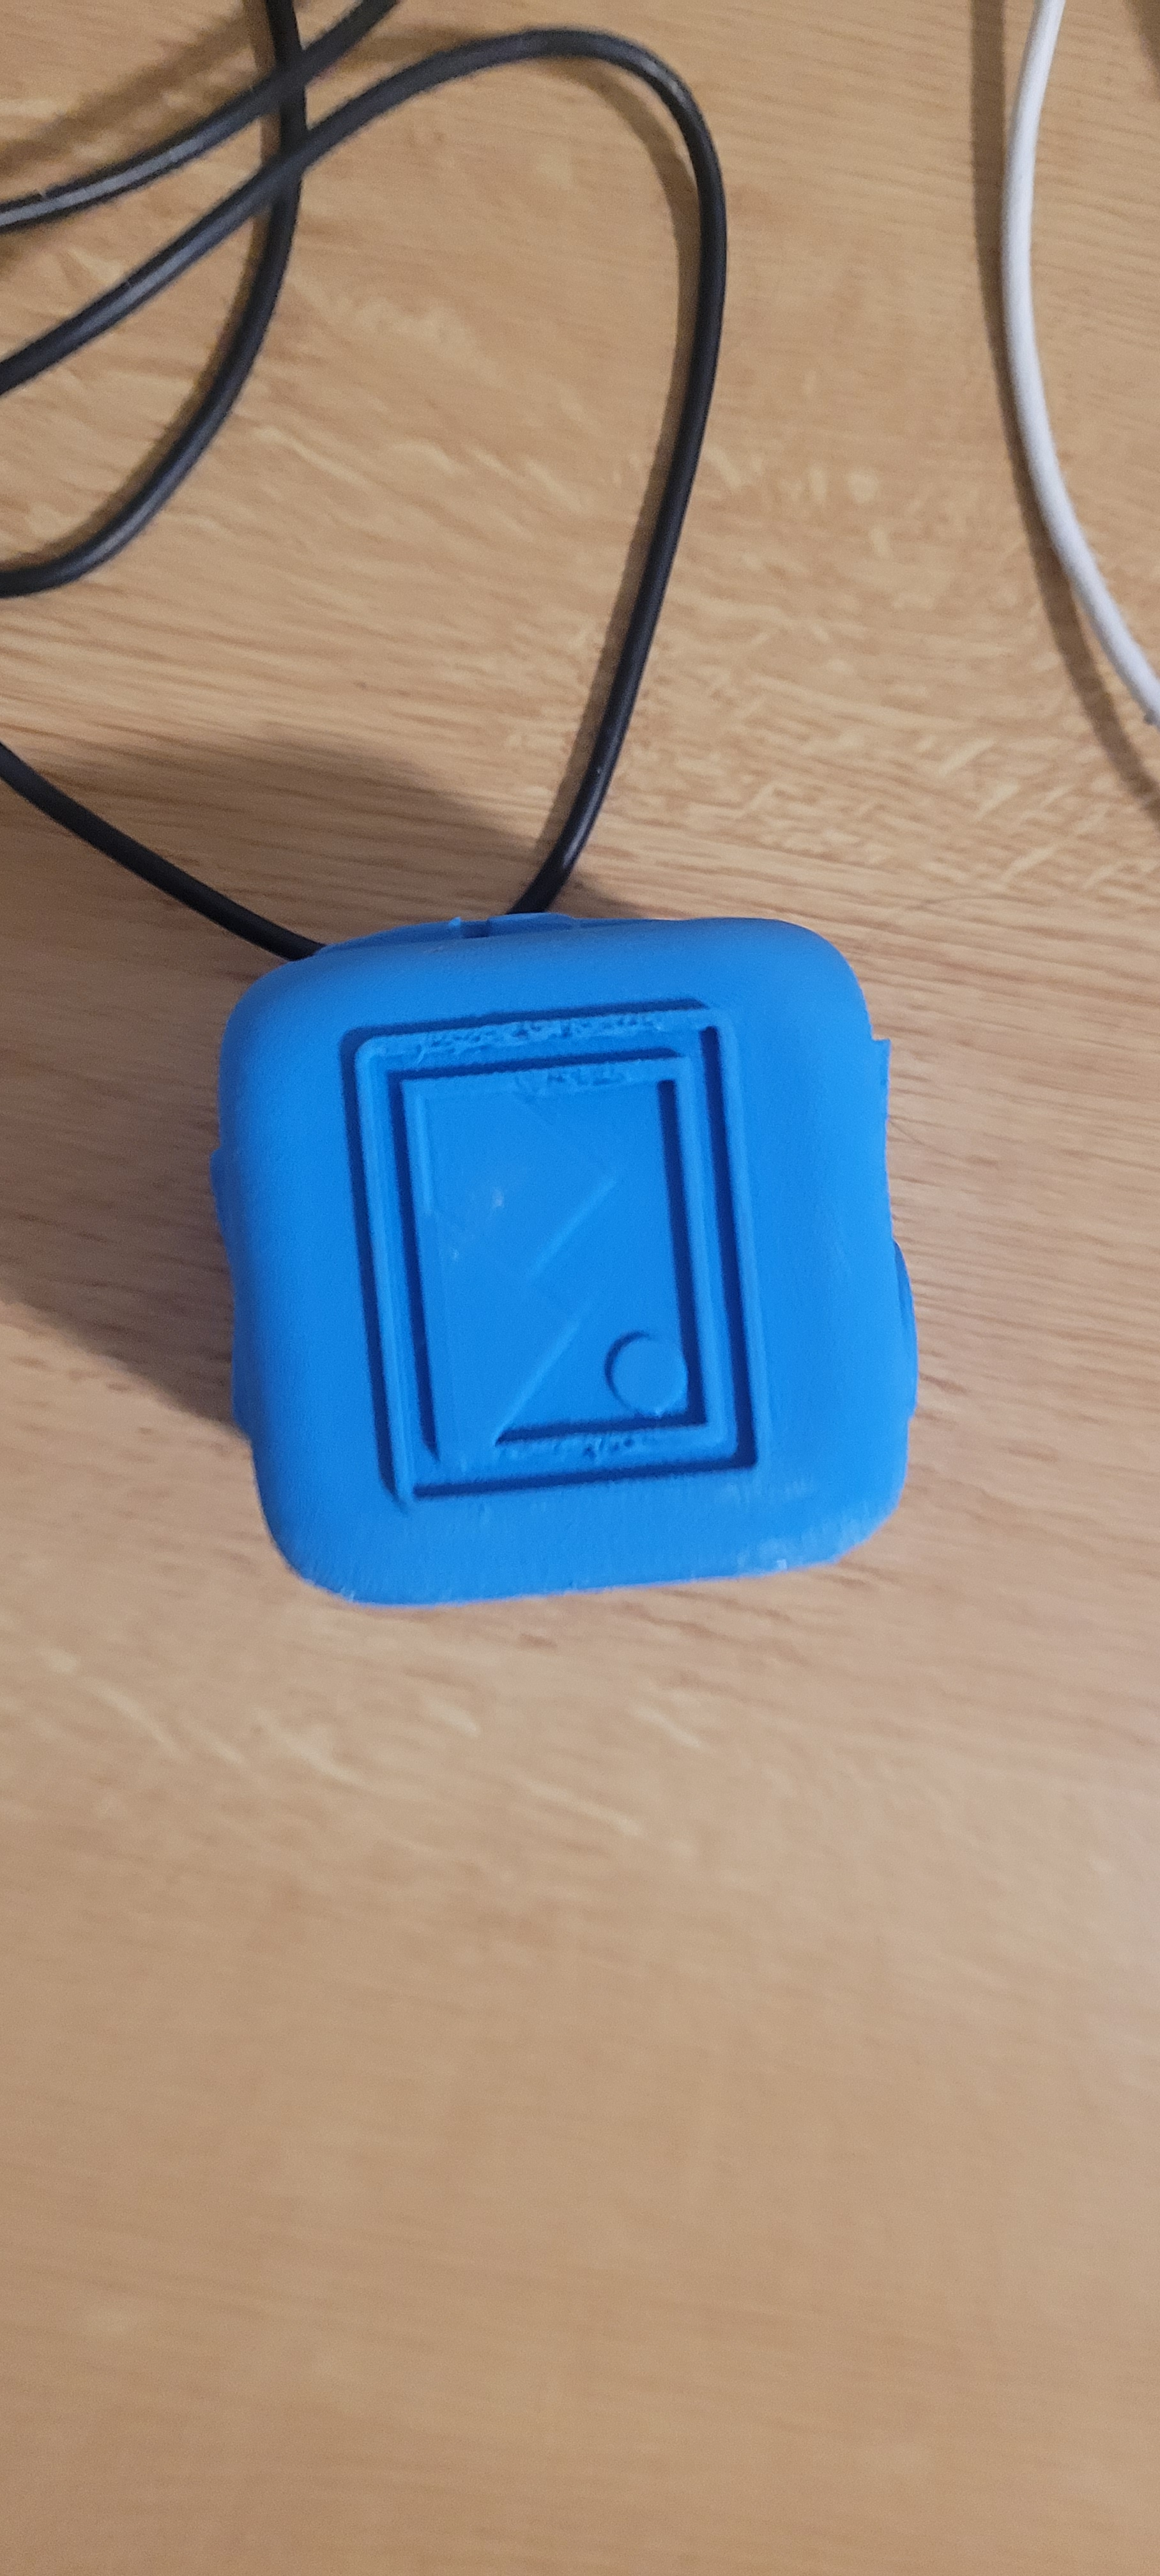Story: (261, 1007, 874, 1533)
